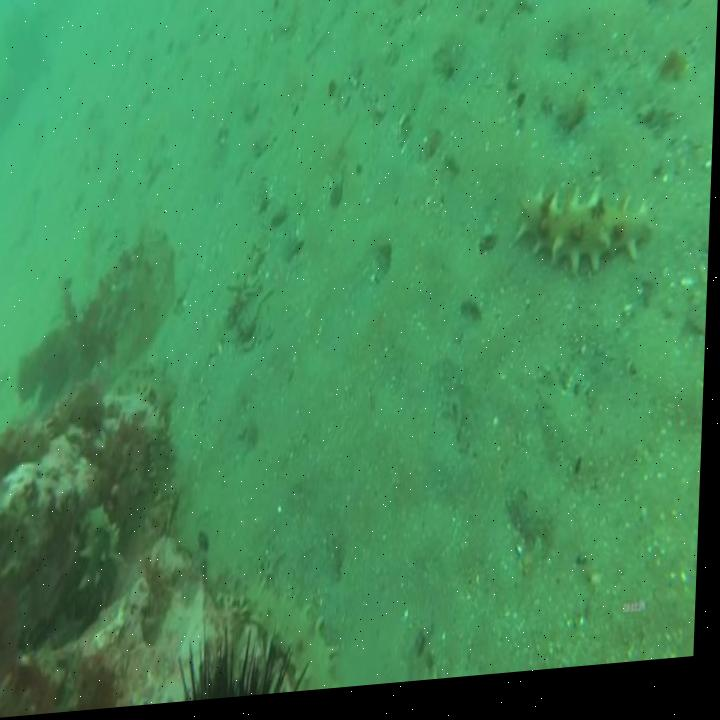echinus: (178, 602, 324, 706)
holothurian: (512, 183, 656, 298), (76, 502, 130, 626), (114, 362, 182, 425), (146, 424, 182, 513)
